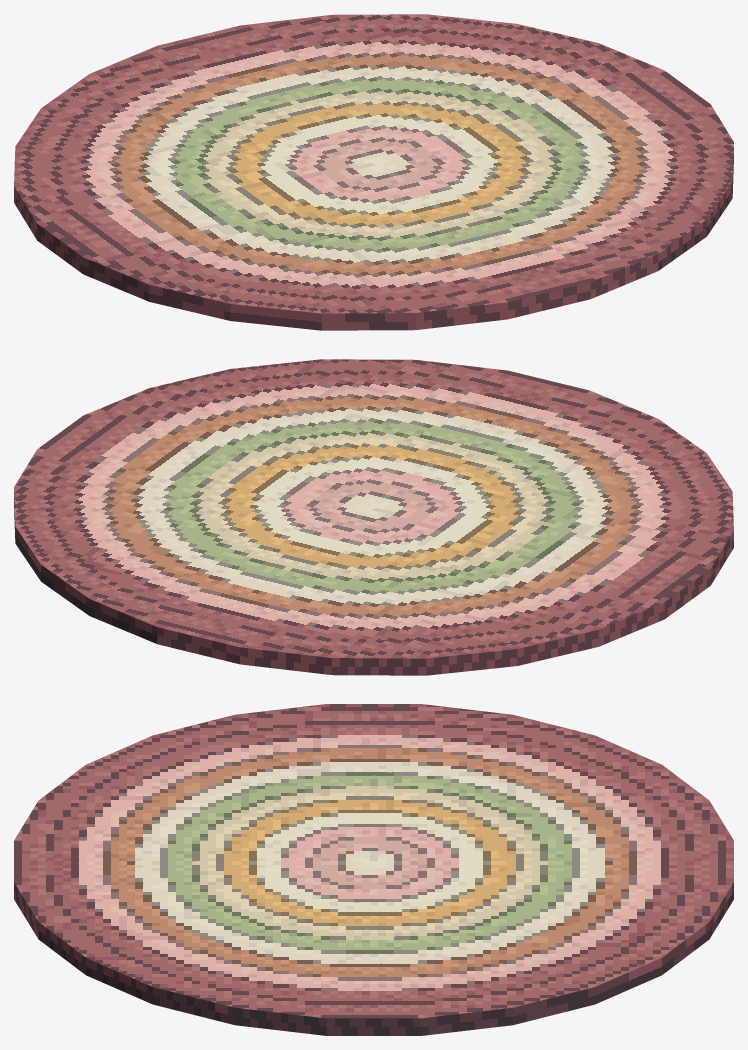
The model's file is braided_rug.glb.
3 renders of one model, top to bottom at view 1: azimuth 30°, elevation 25°; view 2: azimuth 150°, elevation 25°; view 3: azimuth 270°, elevation 25°, orthographic. The views are drawn at different scales.
Visible parts, largest first — view 1: rug; view 2: rug; view 3: rug.
Boxes of the visible parts, x1,y1,x2,y2 form: rug: (14, 14, 733, 330); rug: (14, 359, 733, 675); rug: (14, 704, 733, 1035).
Bounding box in the file's own units: 1.92 × 0.05 × 1.86.
Materials: 1 (1 with a texture image).
